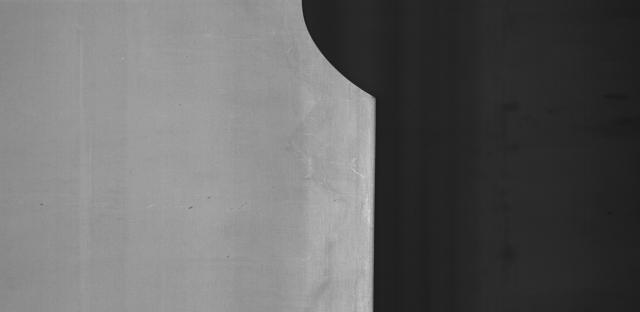crescent_gap: (294, 0, 393, 103)
